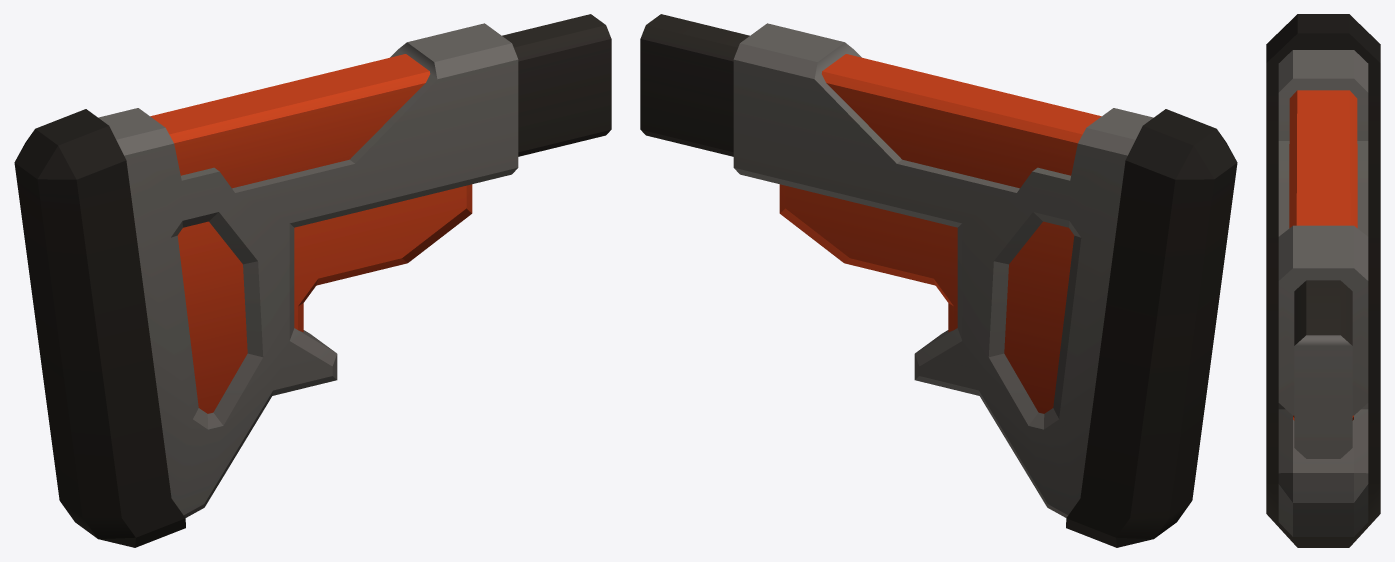
Rendered from Shotgun1_ButtstockHeavy.fbx.
3 views of the same model, side by side, from view 1: azimuth 30°, elevation 25°; view 2: azimuth 150°, elevation 25°; view 3: azimuth 270°, elevation 25° (orthographic). The views are drawn at different scales.
Visible parts, largest first — view 1: Shotgun1_ButtstockHeavy; view 2: Shotgun1_ButtstockHeavy; view 3: Shotgun1_ButtstockHeavy.
Part boxes in pixels (bbox=[...]): Shotgun1_ButtstockHeavy: bbox=[14, 14, 611, 547]; Shotgun1_ButtstockHeavy: bbox=[640, 14, 1237, 547]; Shotgun1_ButtstockHeavy: bbox=[1266, 14, 1380, 547].
Size of the model in its own units: 26.5 by 18.96 by 4.09.
